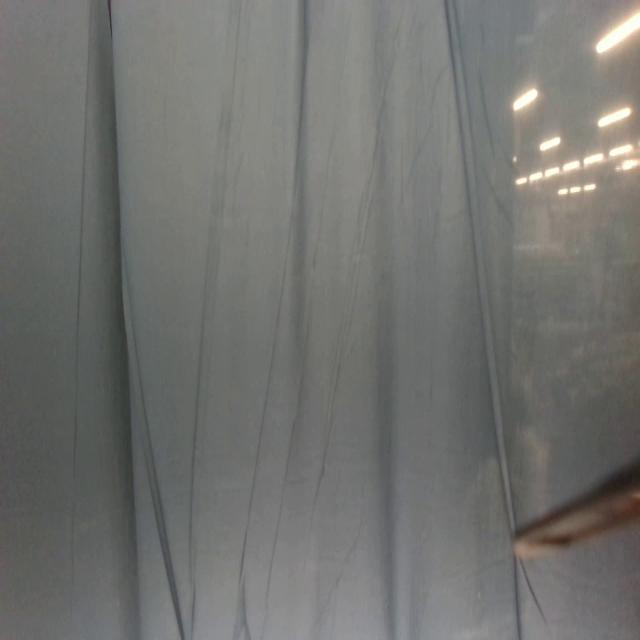crease: (236, 122, 340, 599), (445, 0, 520, 531), (183, 0, 241, 587), (68, 0, 94, 577), (513, 557, 548, 640)
